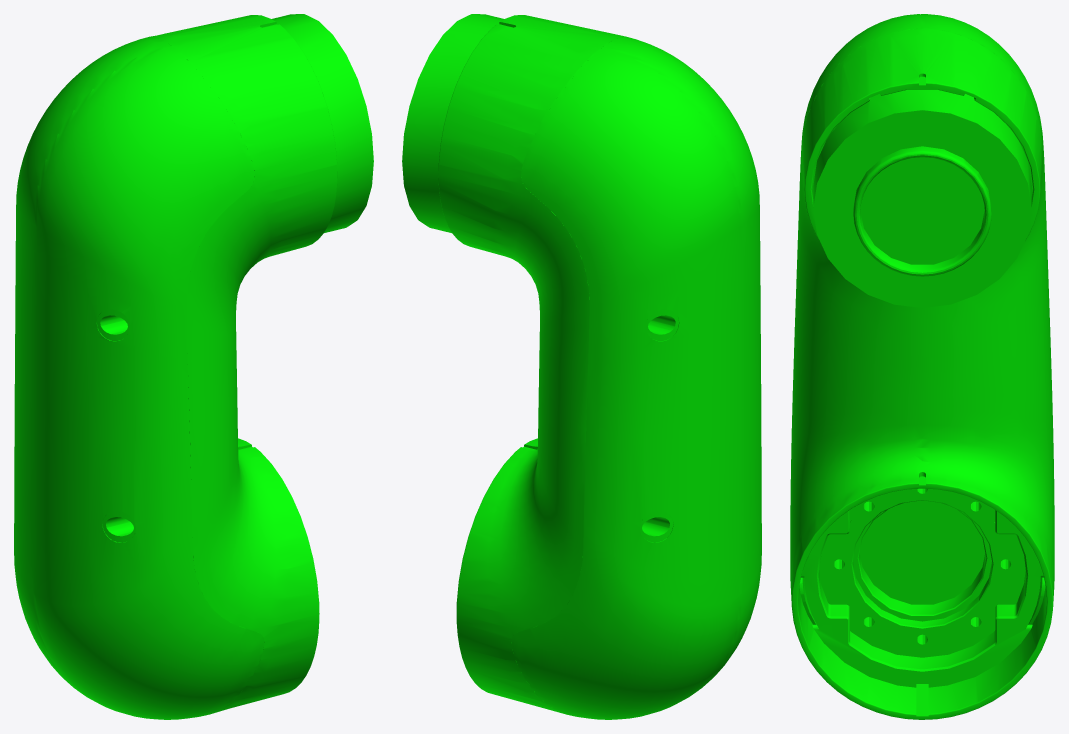
The picture shows the model from 3 angles, left to right: view 1: azimuth 30°, elevation 25°; view 2: azimuth 150°, elevation 25°; view 3: azimuth 270°, elevation 25°; orthographic projection.
Parts seen in each view (by area): view 1: solid_myCobot_320_M5_2022v1.2_230708_-_W-J3_____myCobot_320_ (×2); view 2: solid_myCobot_320_M5_2022v1.2_230708_-_W-J3_____myCobot_320_ (×2); view 3: solid_myCobot_320_M5_2022v1.2_230708_-_W-J3_____myCobot_320_ (×2).
Part boxes in pixels (x1,y1,x2,y2): solid_myCobot_320_M5_2022v1.2_230708_-_W-J3_____myCobot_320_ (×2): (14,14,373,719); solid_myCobot_320_M5_2022v1.2_230708_-_W-J3_____myCobot_320_ (×2): (402,14,761,719); solid_myCobot_320_M5_2022v1.2_230708_-_W-J3_____myCobot_320_ (×2): (790,14,1054,719).
Size of the model in its own units: 97.42 by 76.33 by 208.
